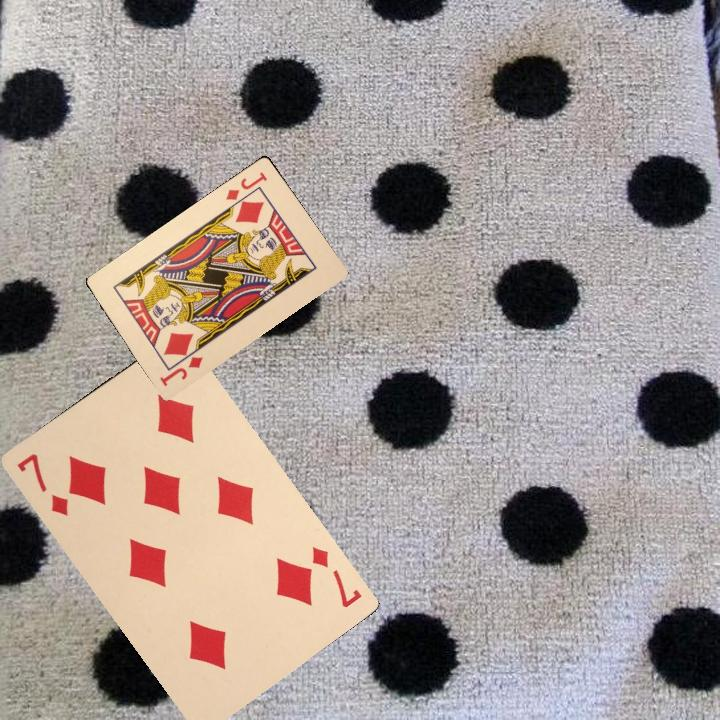7d: (12, 449, 71, 519), (307, 542, 364, 611)
Jd: (156, 343, 205, 389), (222, 168, 270, 203)
